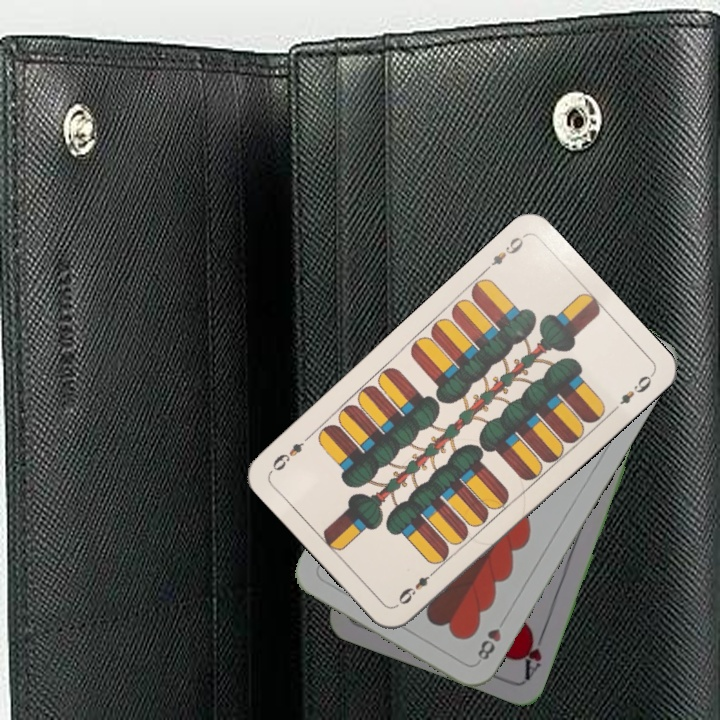E9: (479, 231, 527, 275), (394, 565, 440, 608)
H8: (473, 624, 504, 666)
HA: (517, 624, 549, 682)
